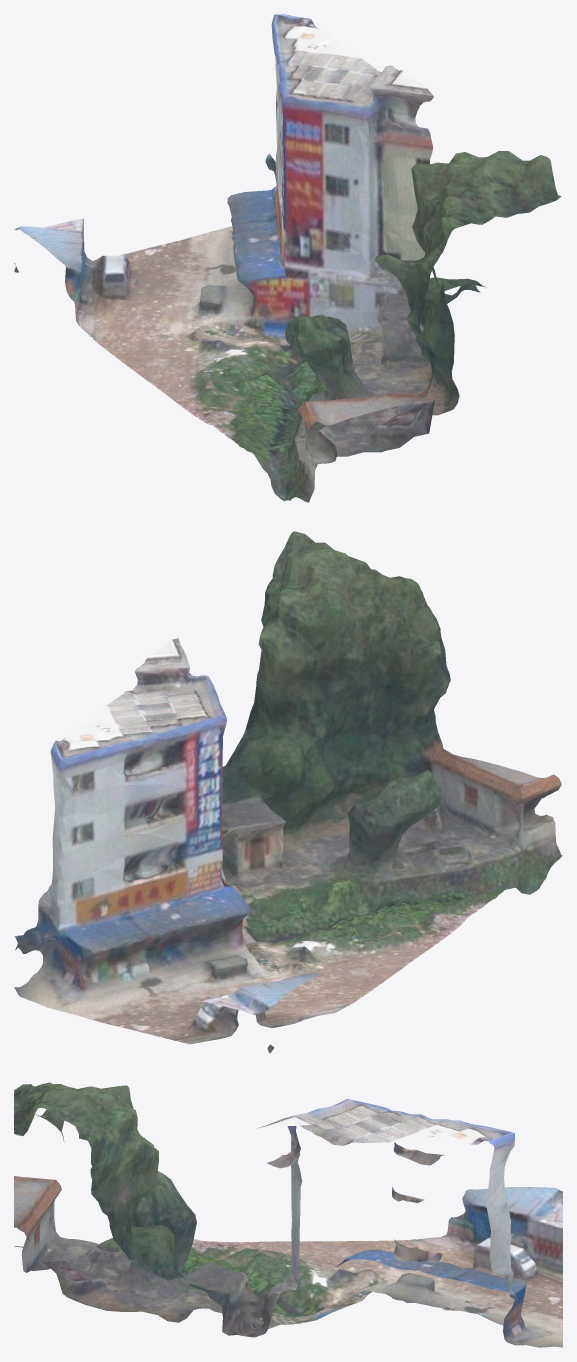
The model's file is Tile__005__004_L21_0000300.glb.
3 views of the same model, one above another, from view 1: azimuth 30°, elevation 25°; view 2: azimuth 150°, elevation 25°; view 3: azimuth 270°, elevation 25° (orthographic). The views are drawn at different scales.
Parts seen in each view (by area): view 1: root; view 2: root; view 3: root.
Part boxes in pixels (left/top/right/bottom): root: left=14, top=14, right=561, bottom=502; root: left=14, top=531, right=562, bottom=1053; root: left=14, top=1082, right=562, bottom=1347.
Size of the model in its own units: 12.63 by 13.74 by 25.13.
1 material, 1 textured.
